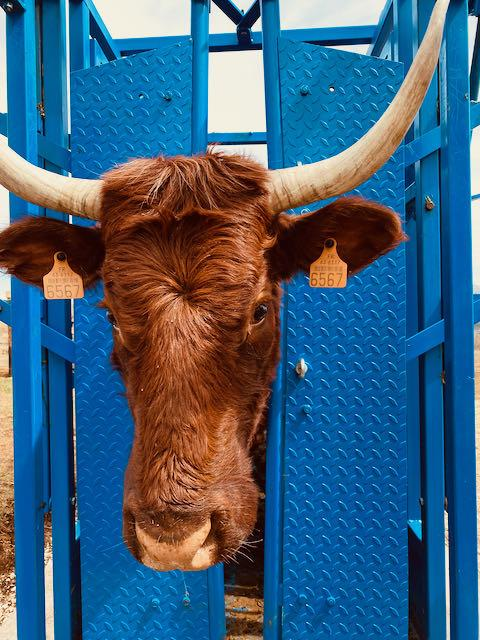muzzles: (110, 508, 243, 578)
